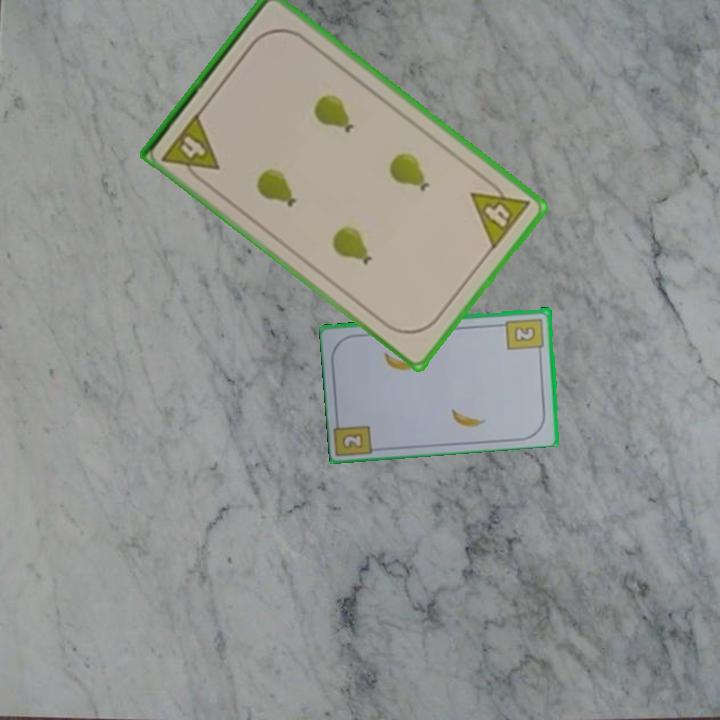2b: (503, 314, 547, 356), (338, 430, 366, 452)
4p: (467, 172, 533, 253), (158, 109, 223, 187)
